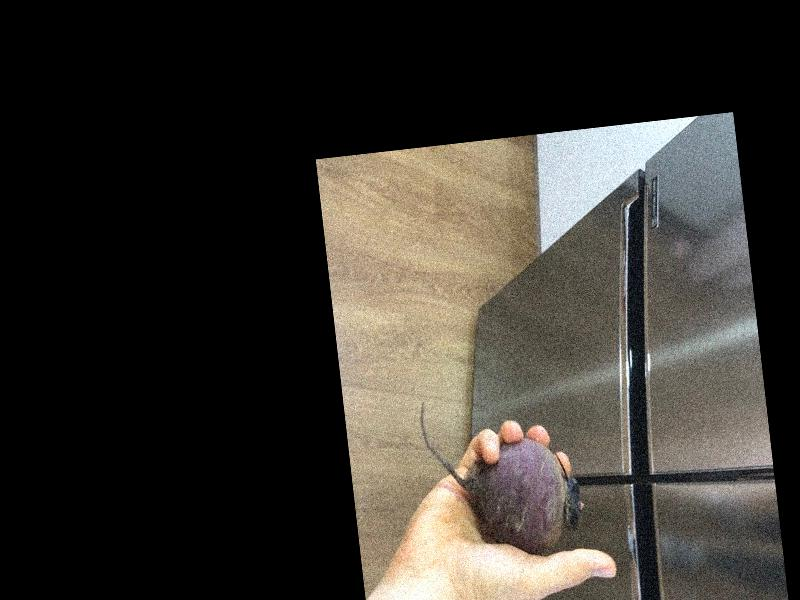Beet: (419, 383, 588, 566)
